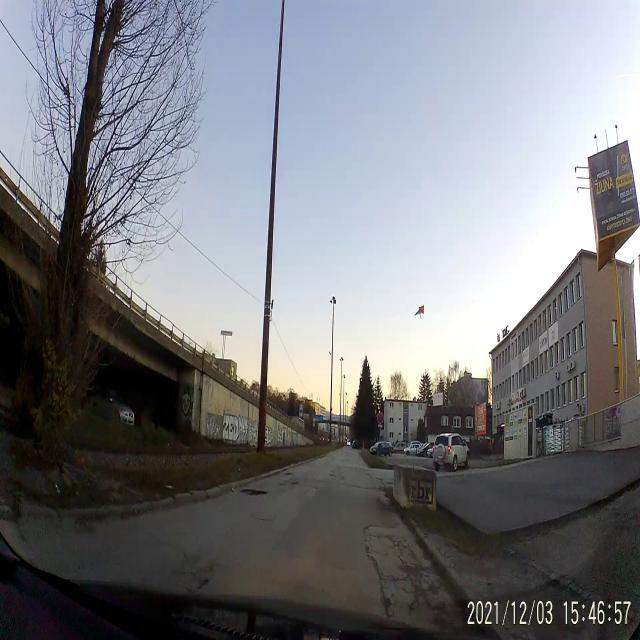Pothole: (242, 484, 270, 498)
